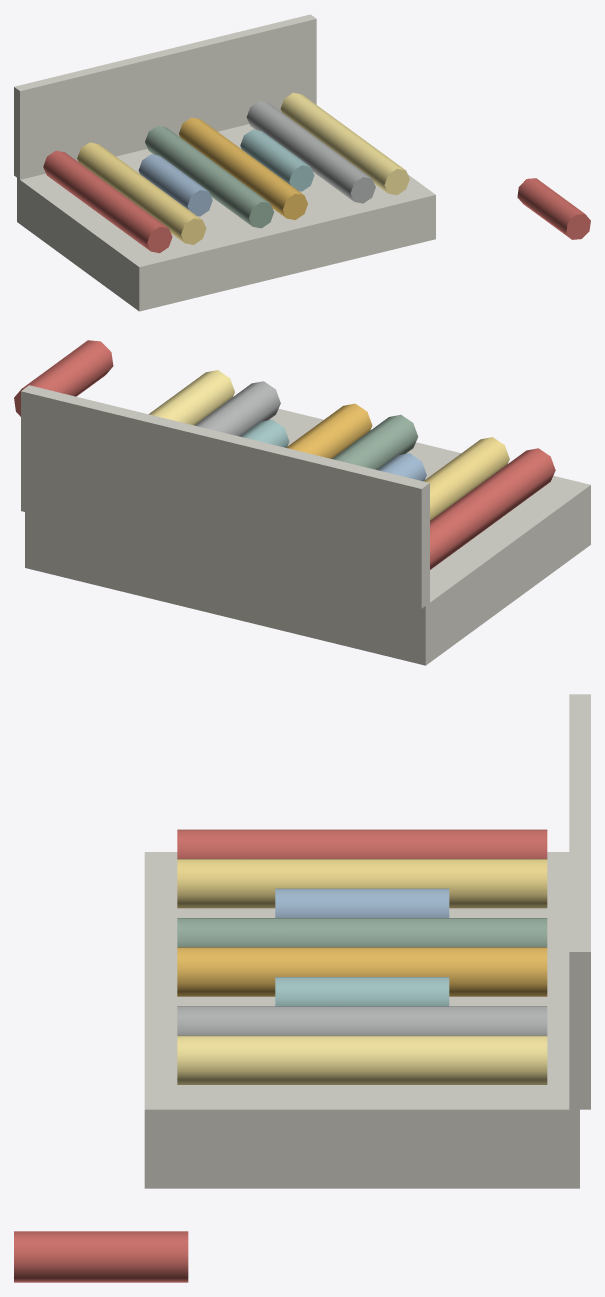
Rendered from Crayons_box.glb.
The picture shows the model from 3 angles, top to bottom: view 1: azimuth 30°, elevation 25°; view 2: azimuth 150°, elevation 25°; view 3: azimuth 270°, elevation 25°; orthographic projection. The views are drawn at different scales.
Parts seen in each view (by area): view 1: Crayons_box; view 2: Crayons_box; view 3: Crayons_box.
Boxes of the visible parts, x1,y1,x2,y2 form: Crayons_box: (14, 14, 590, 311); Crayons_box: (14, 340, 590, 665); Crayons_box: (14, 694, 590, 1282).
Bounding box in the file's own units: 0.1958 × 0.06 × 0.1325.
